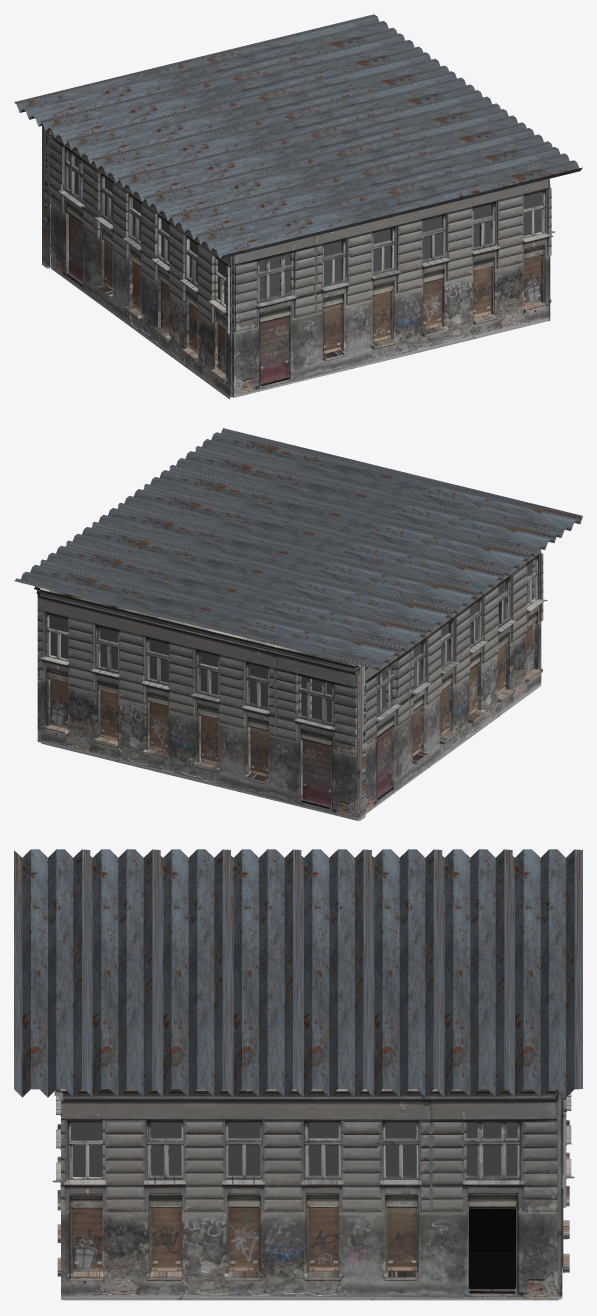
File: EDI004.fbx
3 renders of one model, top to bottom at view 1: azimuth 30°, elevation 25°; view 2: azimuth 150°, elevation 25°; view 3: azimuth 270°, elevation 25°, orthographic. The views are drawn at different scales.
Parts seen in each view (by area): view 1: TECHO002, TexturesCom_BuildingsHouseOld0216_S.002, TexturesCom_BuildingsHouseOld0216_S.003, TexturesCom_BuildingsHouseOld0216_S.001; view 2: TECHO002, TexturesCom_BuildingsHouseOld0216_S.001, TexturesCom_BuildingsHouseOld0216_S.003, TexturesCom_BuildingsHouseOld0216_S; view 3: TECHO002, TexturesCom_BuildingsHouseOld0216_S, TexturesCom_BuildingsHouseOld0216_S.001, TexturesCom_BuildingsHouseOld0216_S.002.
Part boxes in pixels (x1=…): TECHO002: x1=14, y1=14, x2=582, y2=258; TexturesCom_BuildingsHouseOld0216_S.002: x1=229, y1=179, x2=552, y2=397; TexturesCom_BuildingsHouseOld0216_S.003: x1=49, y1=130, x2=229, y2=399; TexturesCom_BuildingsHouseOld0216_S.001: x1=42, y1=125, x2=49, y2=268; TECHO002: x1=14, y1=428, x2=582, y2=670; TexturesCom_BuildingsHouseOld0216_S.001: x1=39, y1=588, x2=365, y2=820; TexturesCom_BuildingsHouseOld0216_S.003: x1=356, y1=548, x2=547, y2=813; TexturesCom_BuildingsHouseOld0216_S: x1=34, y1=586, x2=47, y2=742; TECHO002: x1=14, y1=849, x2=582, y2=1097; TexturesCom_BuildingsHouseOld0216_S: x1=61, y1=1089, x2=562, y2=1300; TexturesCom_BuildingsHouseOld0216_S.001: x1=562, y1=1093, x2=574, y2=1273; TexturesCom_BuildingsHouseOld0216_S.002: x1=52, y1=1089, x2=63, y2=1276.
Bounding box in the file's own units: 24.24 × 10.49 × 24.33.
4 materials, 2 textured.
